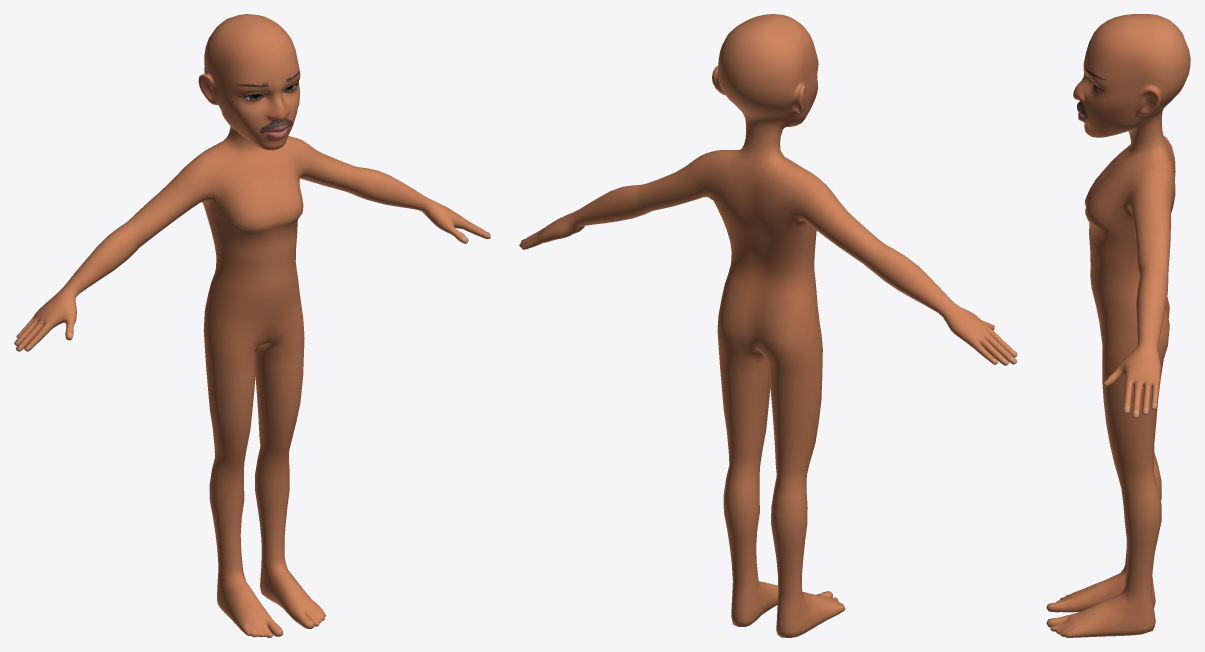
The model's file is frame_0017.glb.
The picture shows the model from 3 angles, left to right: view 1: azimuth 30°, elevation 25°; view 2: azimuth 150°, elevation 25°; view 3: azimuth 270°, elevation 25°; orthographic projection. The views are drawn at different scales.
Parts seen in each view (by area): view 1: frame_0017_head_geo; view 2: frame_0017_head_geo; view 3: frame_0017_head_geo.
Boxes of the visible parts, <box> form: frame_0017_head_geo: <box>14,14,490,637</box>; frame_0017_head_geo: <box>519,14,1017,637</box>; frame_0017_head_geo: <box>1046,14,1190,637</box>.
Size of the model in its own units: 1.28 by 1.5 by 0.3253.
Materials: 3 (3 with a texture image).
